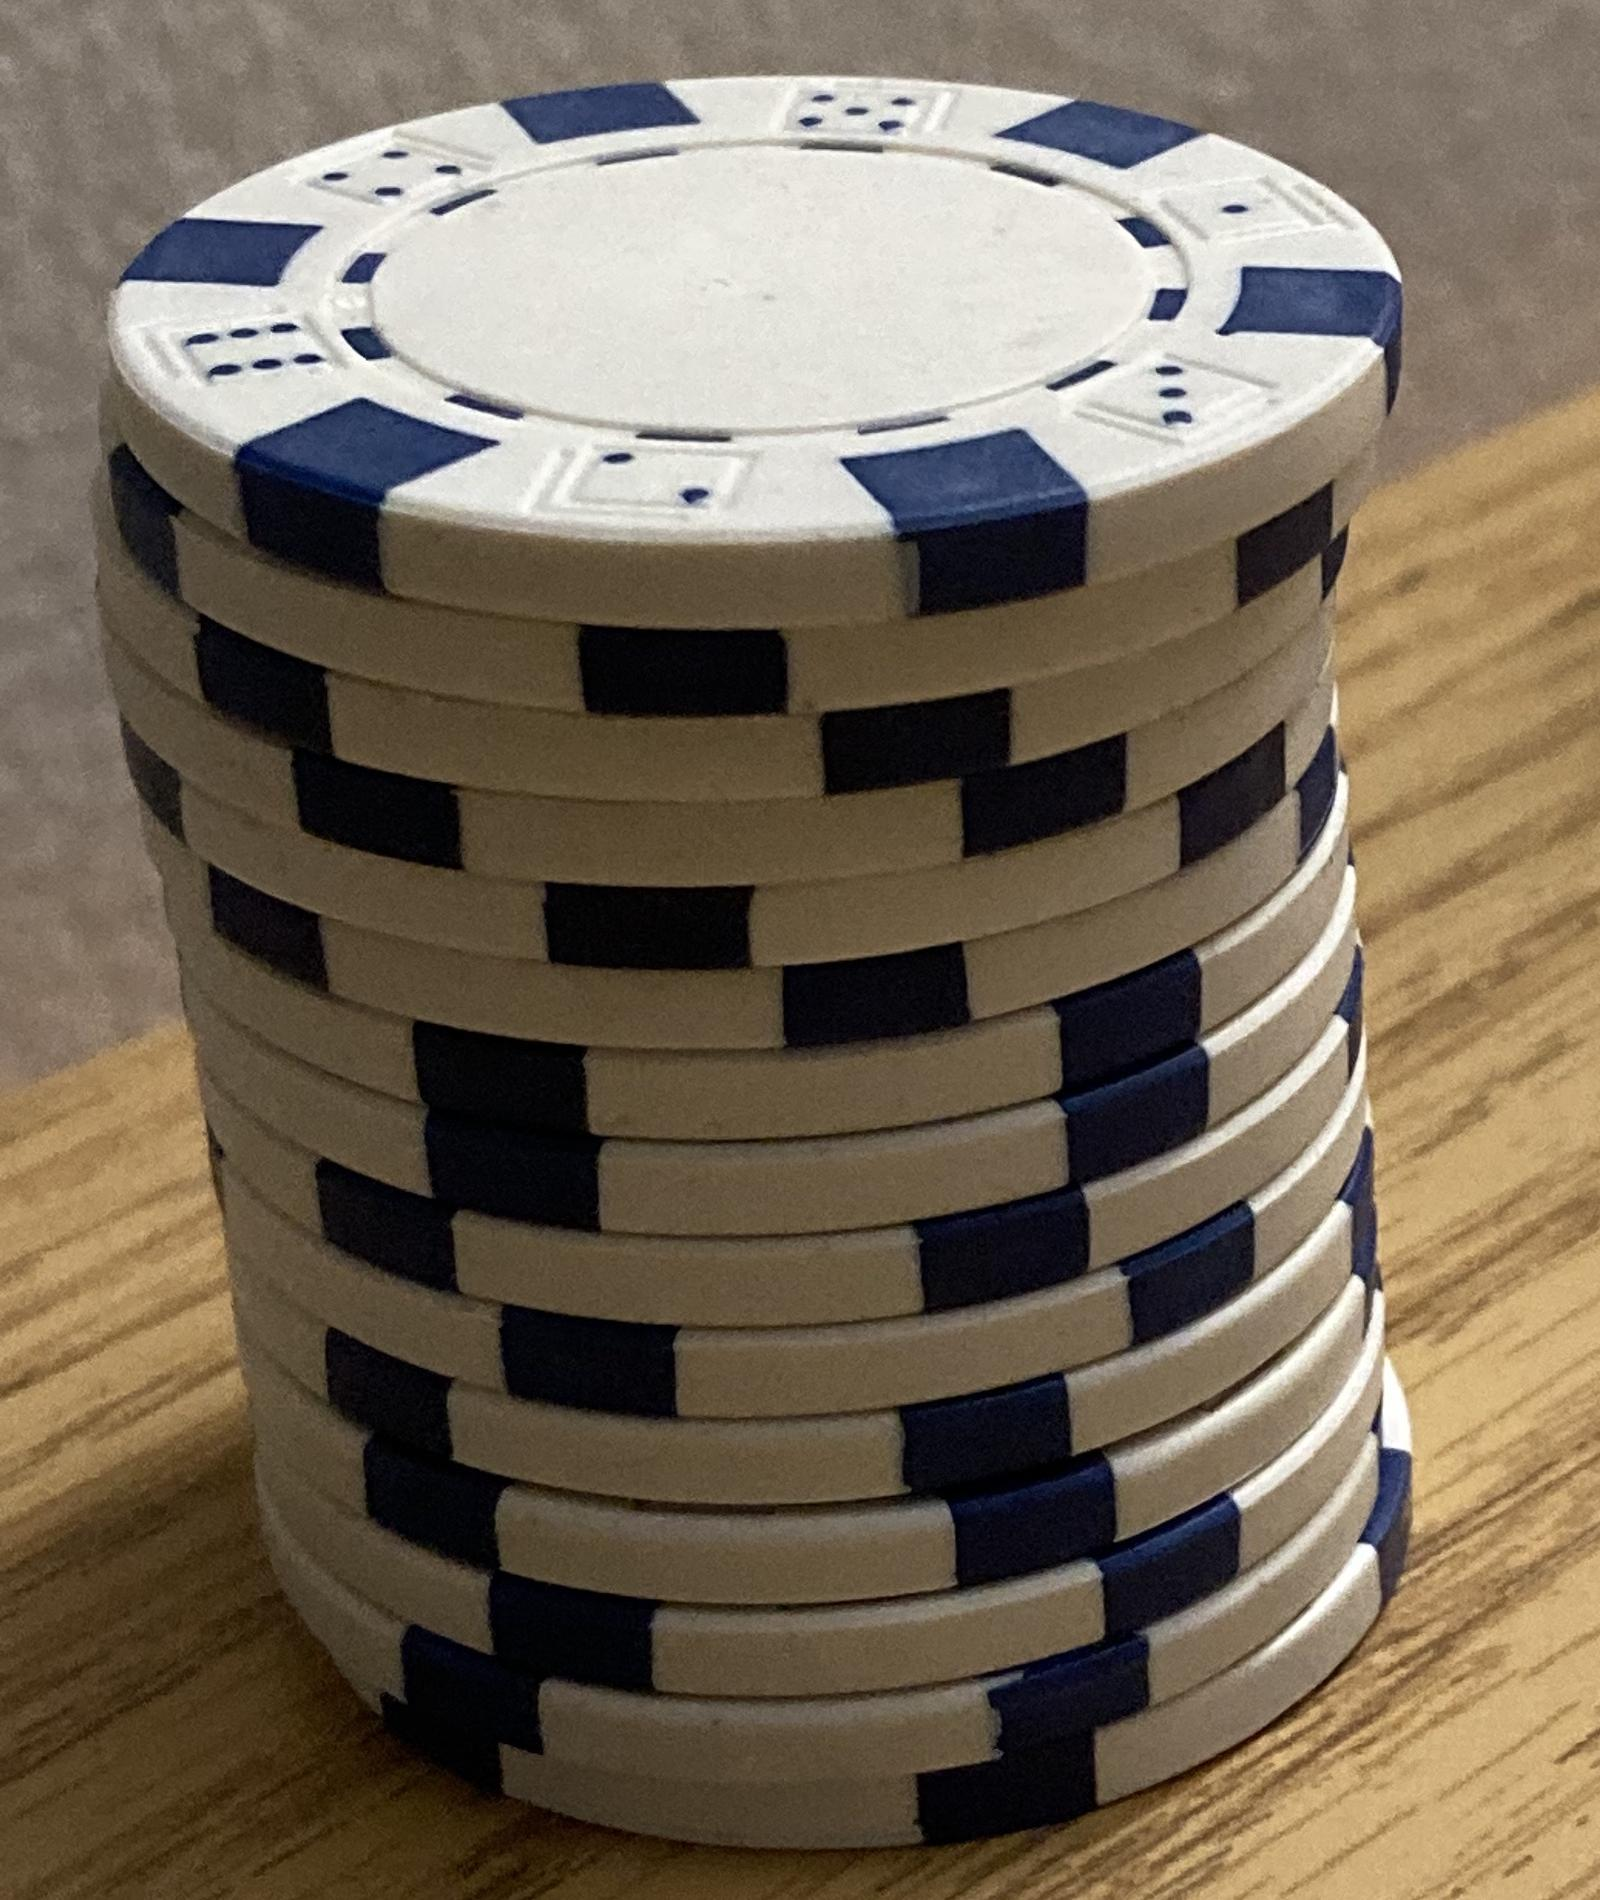Chip: (2, 2, 1600, 1900)
